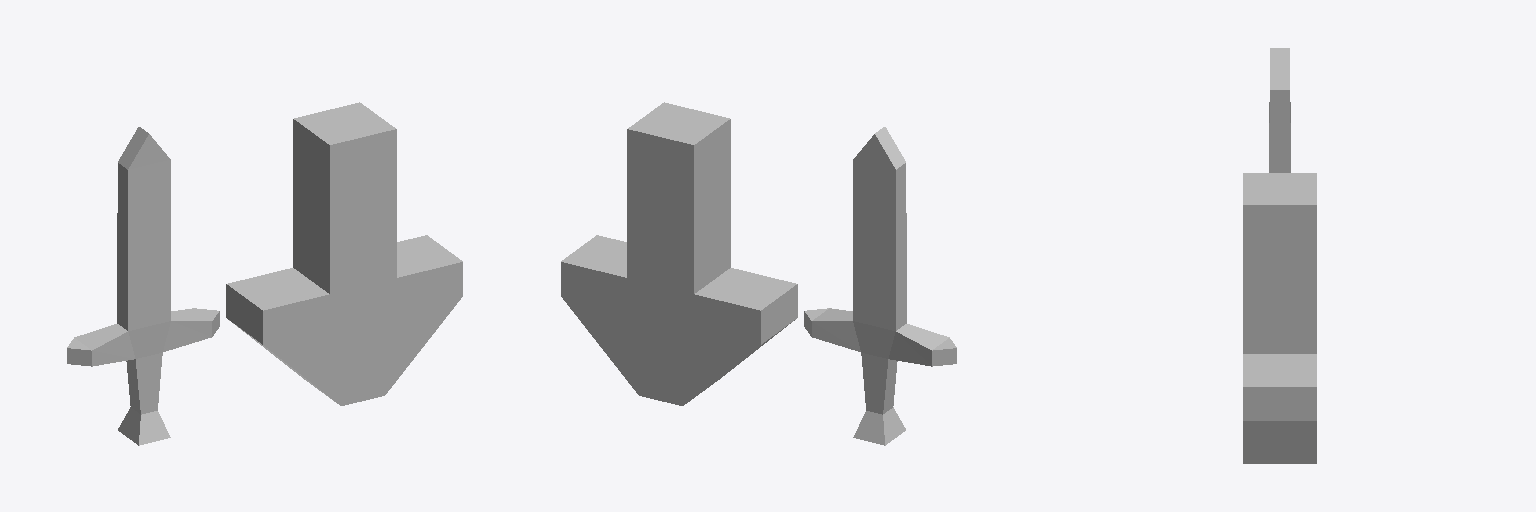
Rendered from ptl_attack_down.obj.
3 views of the same model, side by side, from view 1: azimuth 30°, elevation 25°; view 2: azimuth 150°, elevation 25°; view 3: azimuth 270°, elevation 25° (orthographic).
Visible parts, largest first — view 1: Cube; view 2: Cube; view 3: Cube.
Part boxes in pixels (x1,y1,x2,y2): Cube: (67, 102, 462, 445); Cube: (561, 102, 956, 445); Cube: (1243, 48, 1316, 463).
Size of the model in its own units: 0.421 by 0.3263 by 0.0704.